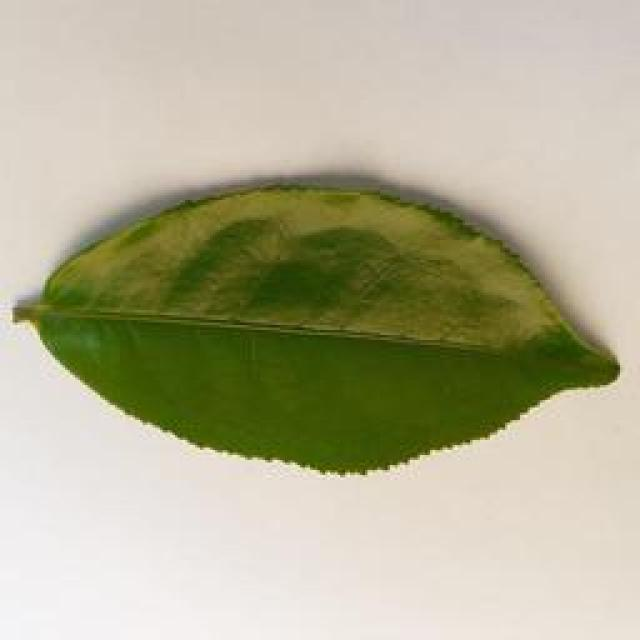Healthy: (10, 182, 623, 466)
